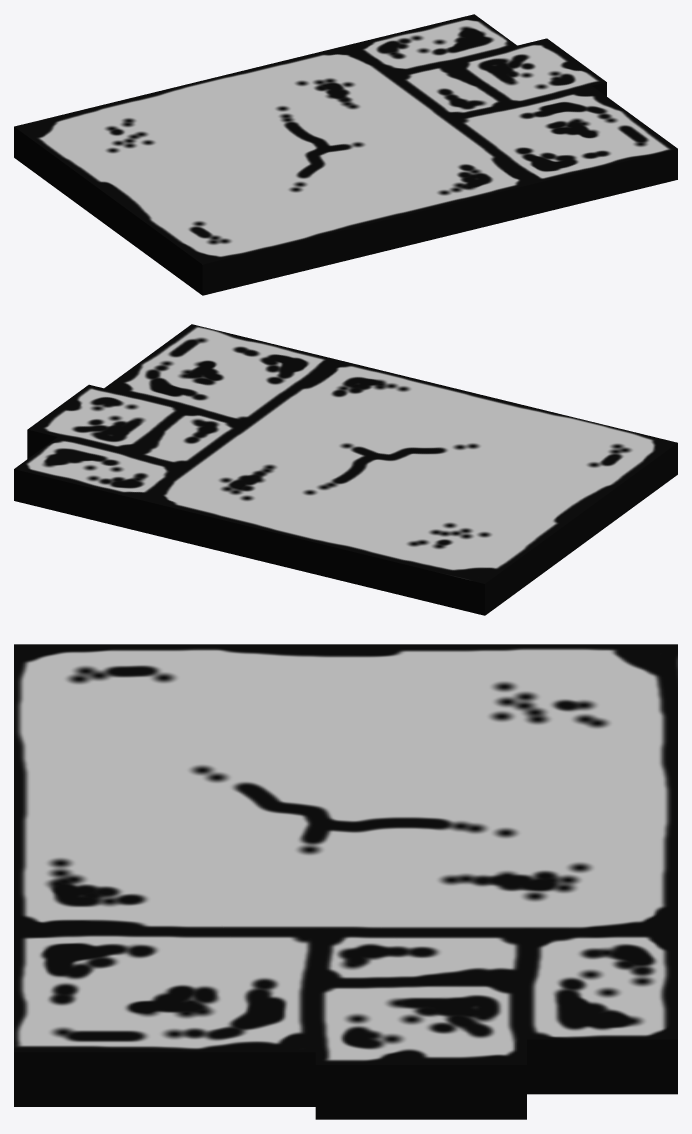
The model's file is tile_straight.glb.
The picture shows the model from 3 angles, top to bottom: view 1: azimuth 30°, elevation 25°; view 2: azimuth 150°, elevation 25°; view 3: azimuth 270°, elevation 25°; orthographic projection. The views are drawn at different scales.
Parts seen in each view (by area): view 1: Cube.001; view 2: Cube.001; view 3: Cube.001.
Part boxes in pixels (left/top/right/bottom): Cube.001: left=14, top=14, right=677, bottom=295; Cube.001: left=14, top=324, right=677, bottom=615; Cube.001: left=14, top=644, right=677, bottom=1119.
Bounding box in the file's own units: 3.3 × 0.2 × 2.2.
1 material, 1 textured.
